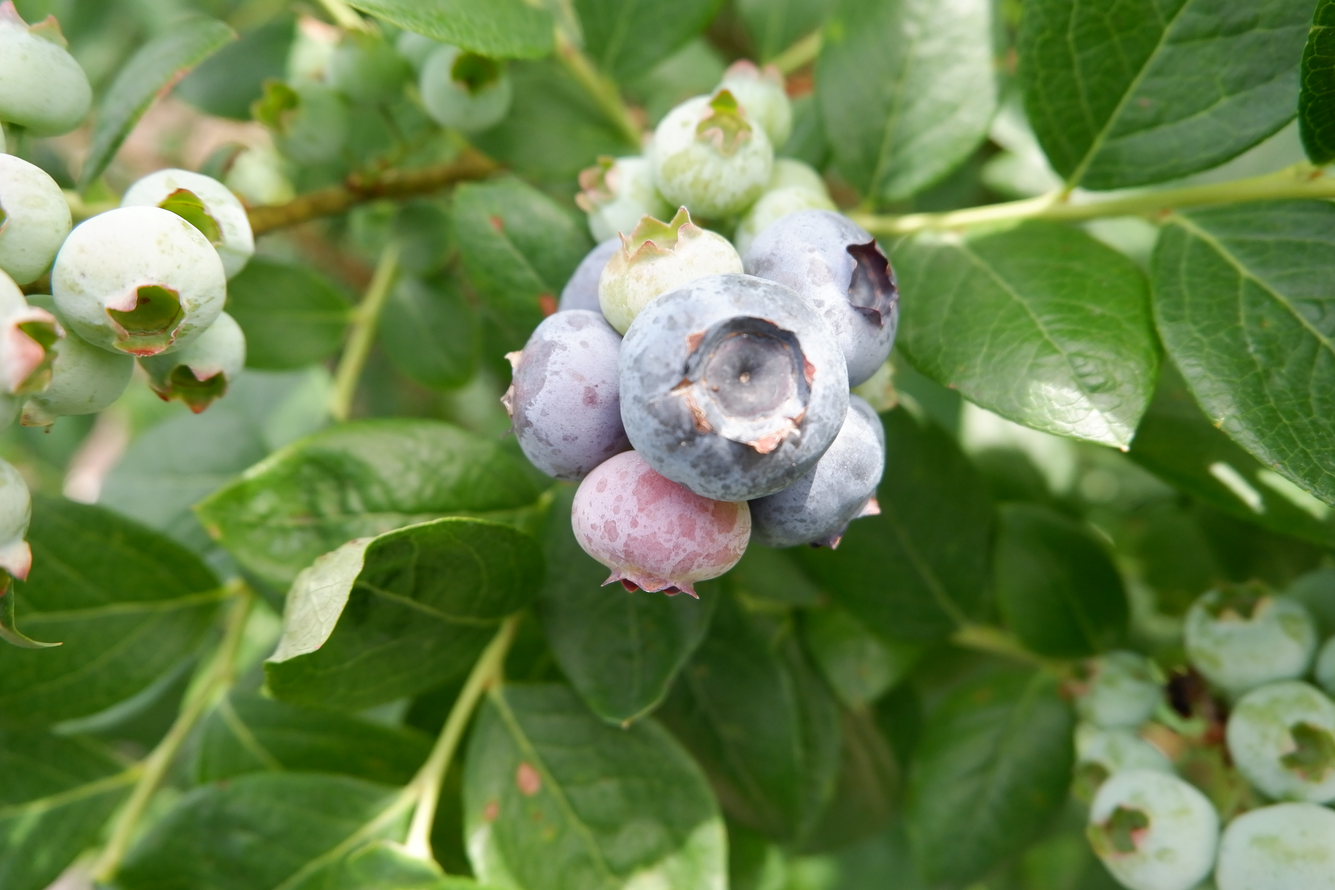Immature: (50, 206, 228, 351), (575, 455, 749, 596), (602, 214, 741, 337), (655, 95, 771, 223), (21, 294, 134, 425), (122, 172, 255, 279), (1, 1, 94, 140), (0, 152, 74, 287), (140, 313, 242, 409), (736, 165, 836, 256), (1, 267, 65, 398), (579, 159, 671, 240), (716, 61, 790, 148), (1, 456, 32, 594), (849, 362, 896, 413), (1, 393, 23, 434)
Mature: (618, 273, 850, 497), (742, 209, 896, 382), (504, 315, 626, 478), (754, 397, 881, 545), (560, 240, 612, 316)
